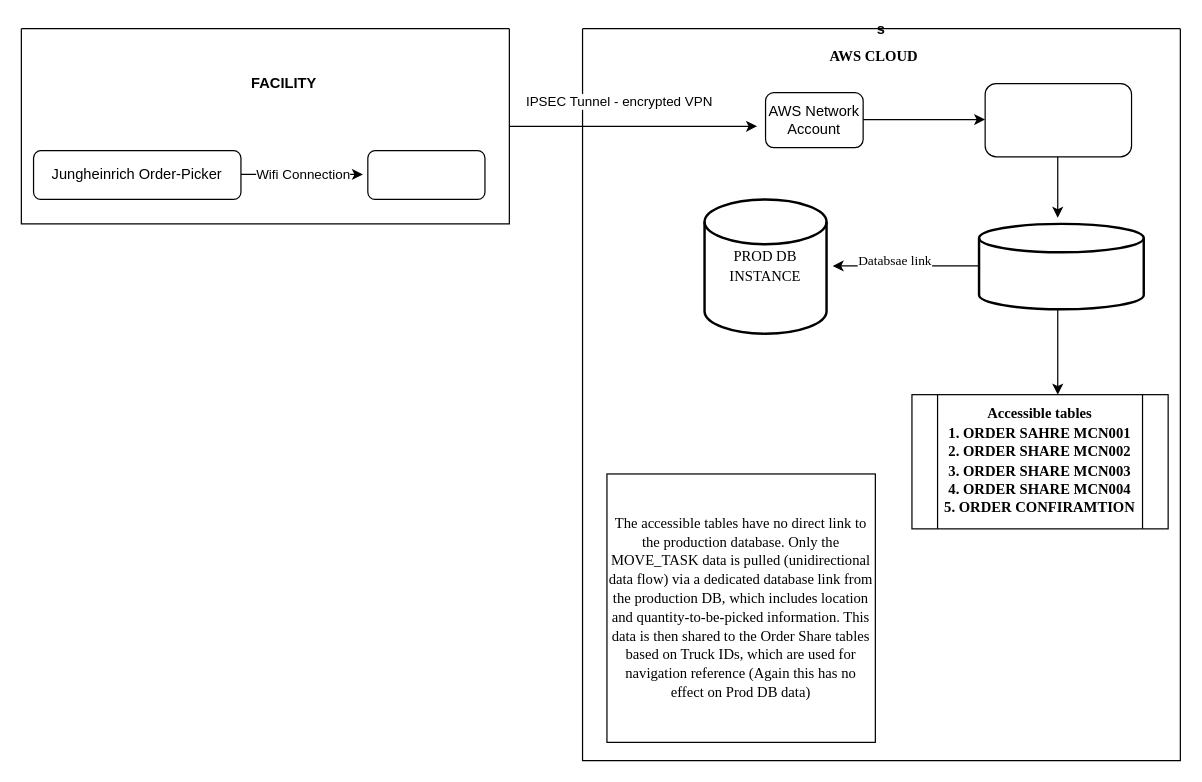
This 1202x782 diagram has some shape labels left out. The shapes that lost their labels are listed below. From the top down, each one's centre as x and y in pixels, then its label:
At (1058,119): "AWS WMS Prod Account".
At (426,174): "RHS facility WIFI".
At (1060,266): "oracle reporting DB instance".
